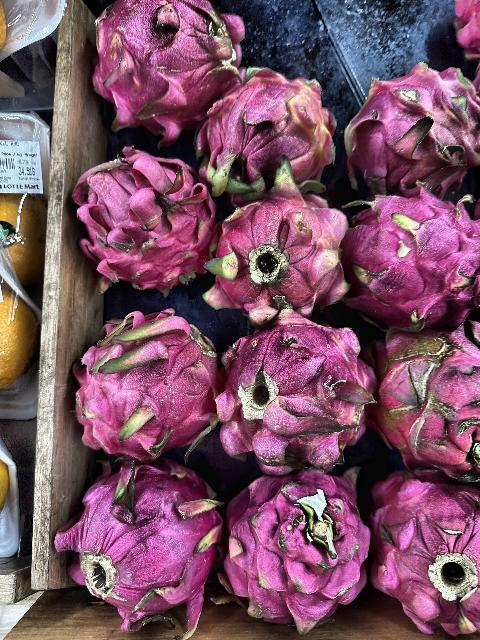buah-naga-belum-matang: (204, 70, 340, 196)
buah-naga-matang: (59, 470, 221, 636), (220, 467, 373, 629), (215, 314, 369, 468), (90, 296, 224, 464), (204, 186, 354, 322), (338, 57, 480, 199), (344, 184, 480, 324), (76, 0, 234, 120), (82, 144, 212, 284), (372, 474, 480, 640), (370, 326, 480, 484)
